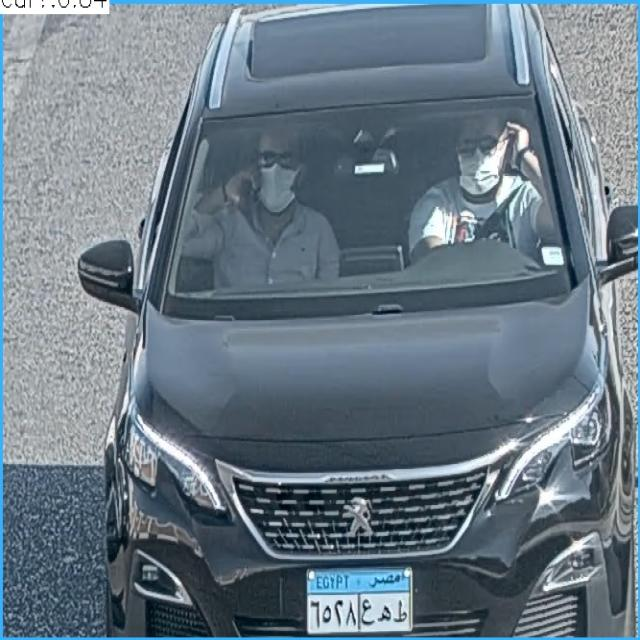windshield: (168, 104, 579, 303)
